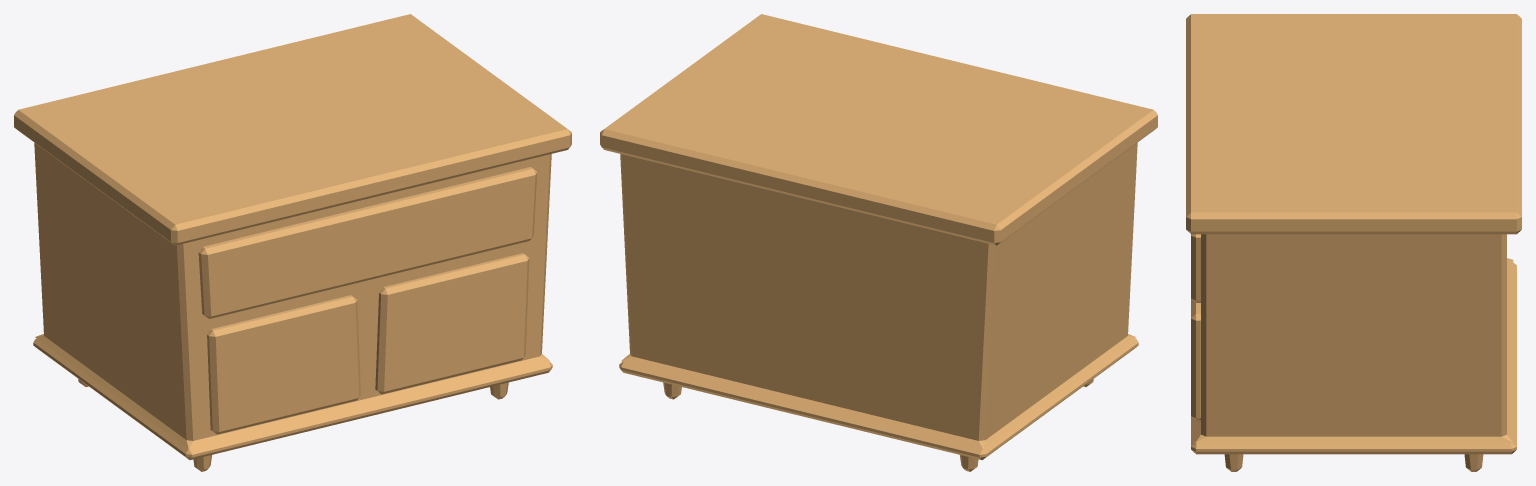
The model's file is Meja.fbx.
3 renders of one model, left to right at view 1: azimuth 30°, elevation 25°; view 2: azimuth 150°, elevation 25°; view 3: azimuth 270°, elevation 25°, orthographic. The views are drawn at different scales.
Visible parts, largest first — view 1: Cube.000; view 2: Cube.000; view 3: Cube.000.
Boxes of the visible parts, <box> form: Cube.000: <box>14,14,571,471</box>; Cube.000: <box>600,14,1157,471</box>; Cube.000: <box>1186,14,1521,471</box>.
Size of the model in its own units: 100 by 65 by 70.
